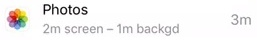name: (39, 3, 91, 19)
time: (40, 22, 63, 36), (115, 22, 135, 37)
